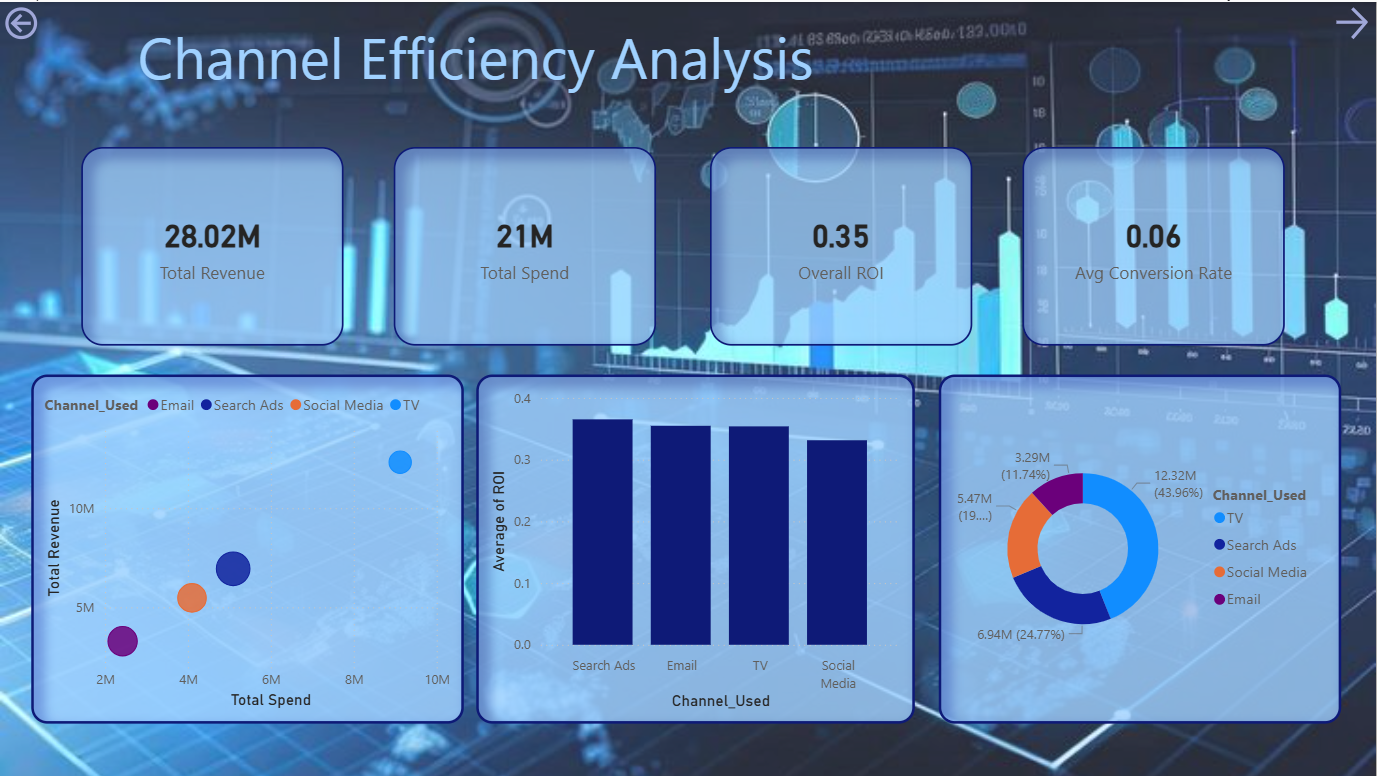

What the dashboard file says about the page in this screenshot:
{"tool":"powerbi","page":{"name":"Channel Efficiency","canvas":[1280,720],"ordinal":2},"visuals":[{"type":"shape","box":[75.6,0,733.7,100],"z":0},{"type":"card","fields":{"Values":["Marketing_Campaign_Performance_Project_Dataset.Total Revenue"]},"box":[75.6,134.9,244.2,184.9],"z":1000},{"type":"card","fields":{"Values":["Marketing_Campaign_Performance_Project_Dataset.Overall ROI"]},"box":[660.5,134.9,244.2,184.9],"z":2000},{"type":"card","fields":{"Values":["Marketing_Campaign_Performance_Project_Dataset.Avg Conversion Rate"]},"box":[951.2,134.9,244.2,184.9],"z":3000},{"type":"card","fields":{"Values":["Marketing_Campaign_Performance_Project_Dataset.Total Spend"]},"box":[366.3,134.9,244.2,184.9],"z":4000},{"type":"scatterChart","fields":{"Series":["Marketing_Campaign_Performance_Project_Dataset.Channel_Used"],"X":["Marketing_Campaign_Performance_Project_Dataset.Total Spend"],"Size":["Sum(Marketing_Campaign_Performance_Project_Dataset.Conversion_Rate)"],"Y":["Marketing_Campaign_Performance_Project_Dataset.Total Revenue"]},"box":[29.1,346.5,402.3,324.4],"z":5000},{"type":"clusteredColumnChart","fields":{"Category":["Marketing_Campaign_Performance_Project_Dataset.Channel_Used"],"Y":["Avg(Marketing_Campaign_Performance_Project_Dataset.ROI)"]},"box":[443,346.5,408.1,324.4],"z":6000},{"type":"donutChart","fields":{"Y":["Marketing_Campaign_Performance_Project_Dataset.Total Revenue"],"Category":["Marketing_Campaign_Performance_Project_Dataset.Channel_Used"]},"box":[873.3,346.5,374.4,324.4],"z":7000},{"type":"actionButton","box":[1237,0,43,39.5],"z":8000},{"type":"actionButton","box":[0,0,39.5,39.5],"z":9000}]}

Visuals, with their boxes in screenshot pixels (x1, y1, x2, y2), scaled from the page's 1280x720 canvas onto the 1377x776 screenshot:
shape: region(81, 0, 871, 108)
card - Marketing_Campaign_Performance_Project_Dataset.Total Revenue: region(81, 145, 344, 345)
card - Marketing_Campaign_Performance_Project_Dataset.Overall ROI: region(711, 145, 973, 345)
card - Marketing_Campaign_Performance_Project_Dataset.Avg Conversion Rate: region(1023, 145, 1286, 345)
card - Marketing_Campaign_Performance_Project_Dataset.Total Spend: region(394, 145, 657, 345)
scatterChart - Marketing_Campaign_Performance_Project_Dataset.Channel_Used x Marketing_Campaign_Performance_Project_Dataset.Total Spend: region(31, 373, 464, 723)
clusteredColumnChart - Marketing_Campaign_Performance_Project_Dataset.Channel_Used x Avg(Marketing_Campaign_Performance_Project_Dataset.ROI): region(477, 373, 916, 723)
donutChart - Marketing_Campaign_Performance_Project_Dataset.Total Revenue x Marketing_Campaign_Performance_Project_Dataset.Channel_Used: region(939, 373, 1342, 723)
actionButton: region(1331, 0, 1376, 43)
actionButton: region(0, 0, 42, 43)
